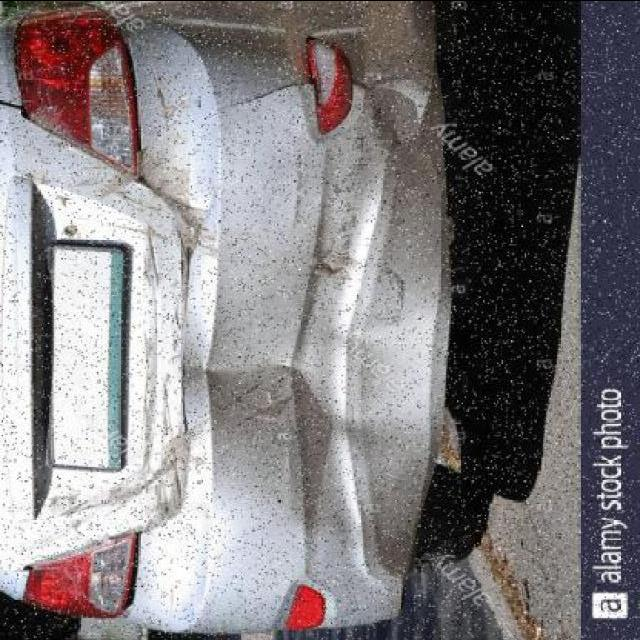rear-bumper-dent: (177, 0, 454, 634)
